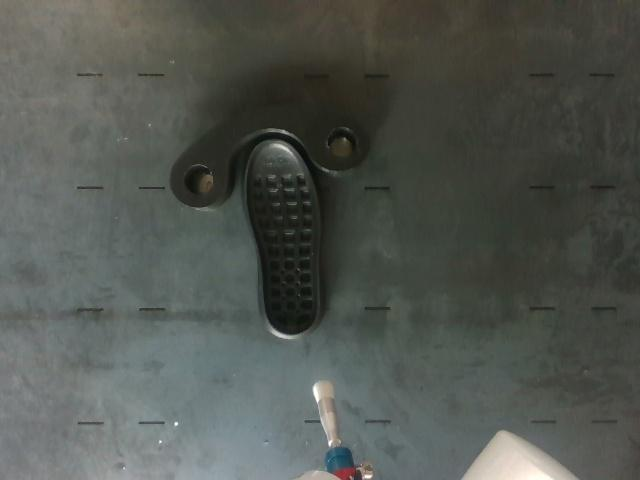shoes: (247, 141, 319, 335)
